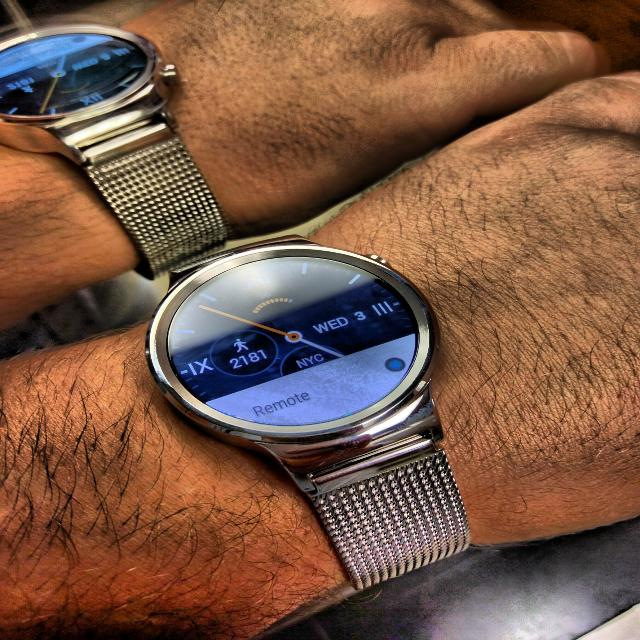Electronic watch: (0, 25, 469, 589)
